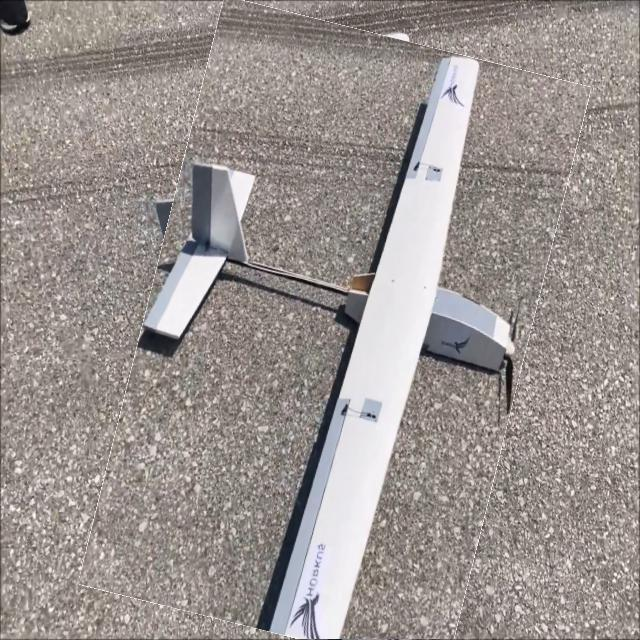iha: (130, 58, 539, 634)
